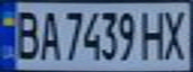3: (100, 8, 121, 61)
4: (81, 7, 103, 61)
7: (60, 7, 84, 61)
9: (115, 8, 139, 61)
A: (36, 7, 60, 61)
B: (9, 6, 42, 61)
H: (139, 7, 169, 61)
X: (160, 7, 193, 61)
